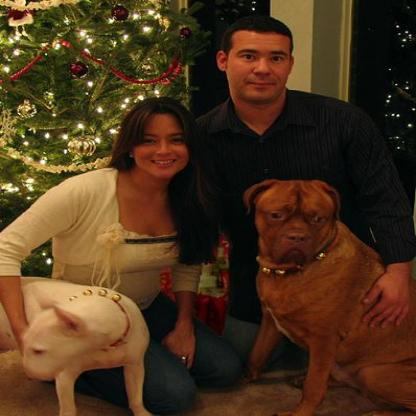bull_mastiff: (244, 179, 410, 413), (0, 274, 153, 414)
